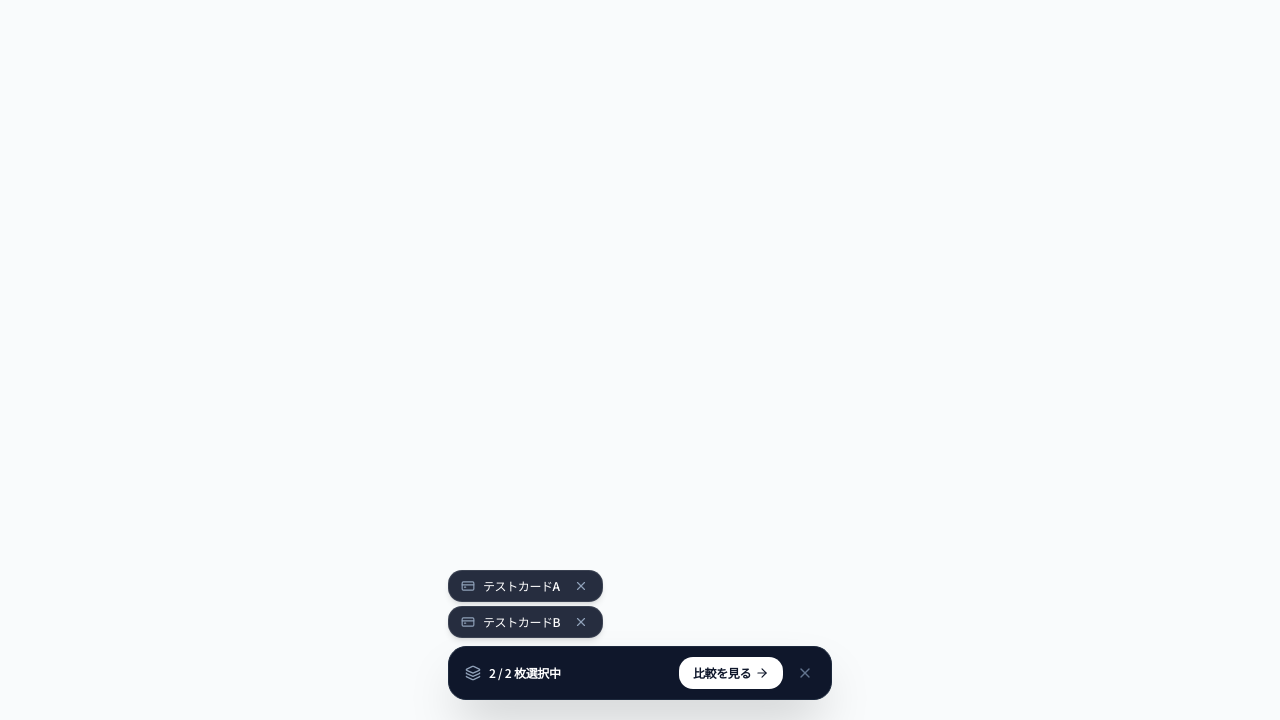
Test: 3. CompareBottomSheet 動作テスト › 2枚選択時は「比較を見る」ボタンが表示され、クリックで比較モーダルが開くこと
Expected: the text "2 / 2 枚選択中" is shown, [489,665,561,681]
Expected: the text "比較を見る" is shown, [693,665,751,681]
Click the button "比較を見る": (731, 673) [679,657,783,689]
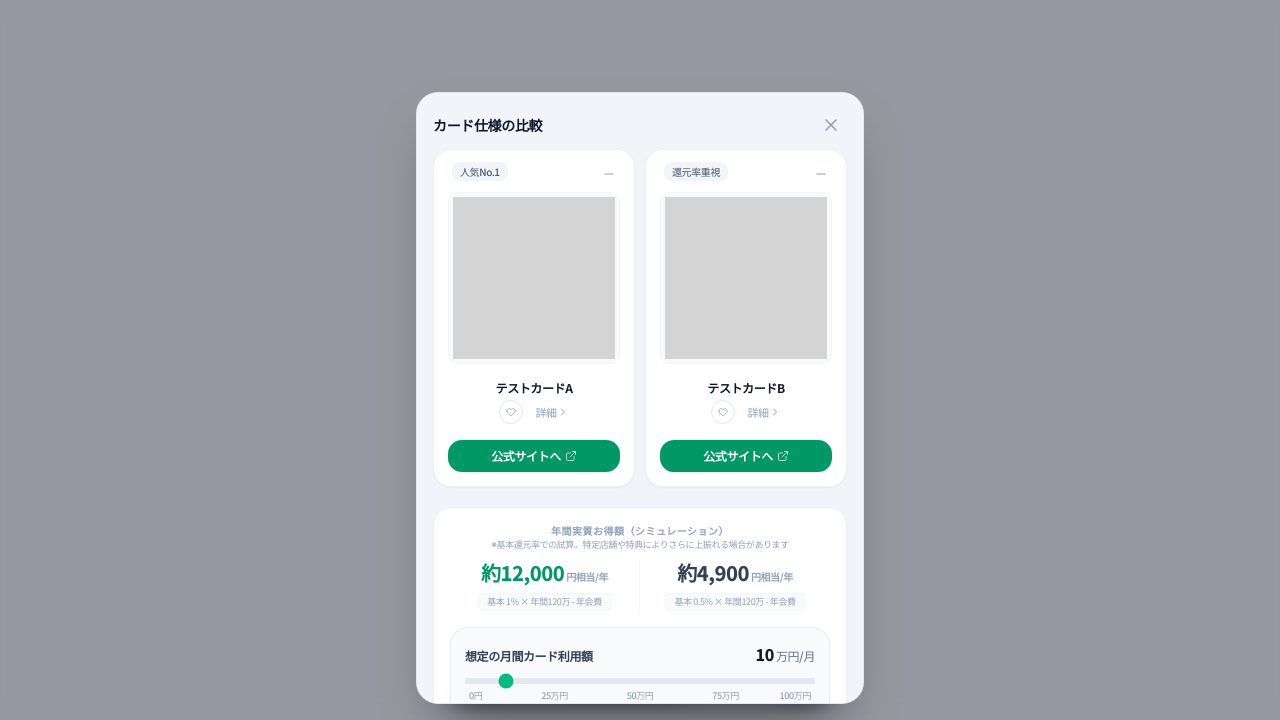
Now the heading "カード仕様の比較" is shown, box [433,115,542,135]
